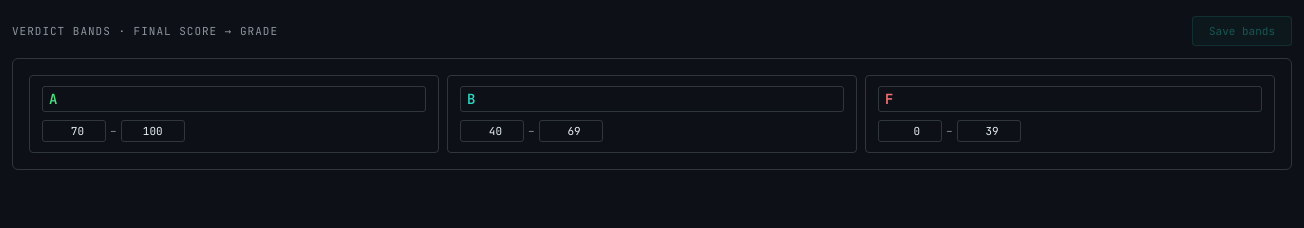
Test case: VerdictBandsSection — monotonicity advisory invariant (OTA-790) › flags a non-monotonic edit advisorily, renders without throwing, and leaves Save enabled
Note: Break monotonicity: raise band 2's min above band 1's (80 ≥ 70).
Replace the text in the number field named "Band 2 min score" with "80" at point(492, 131), box top-left (460, 120), bottom-right (524, 142)
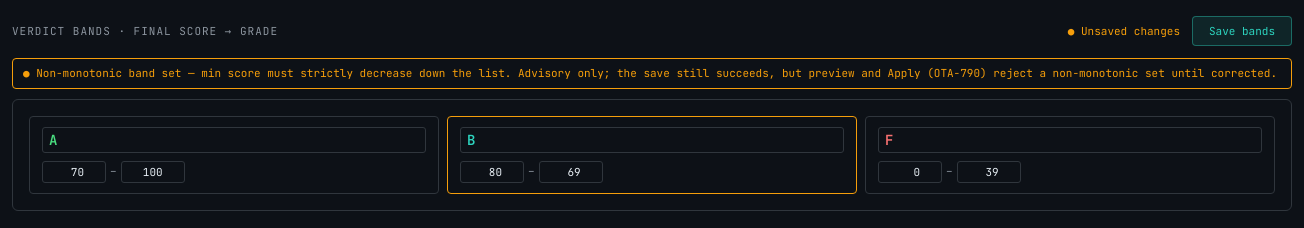
Check: the text "Non-monotonic band set" is shown, box top-left (23, 66), bottom-right (1277, 80)
Check: the button "Save bands" is enabled, box top-left (1192, 16), bottom-right (1292, 46)
